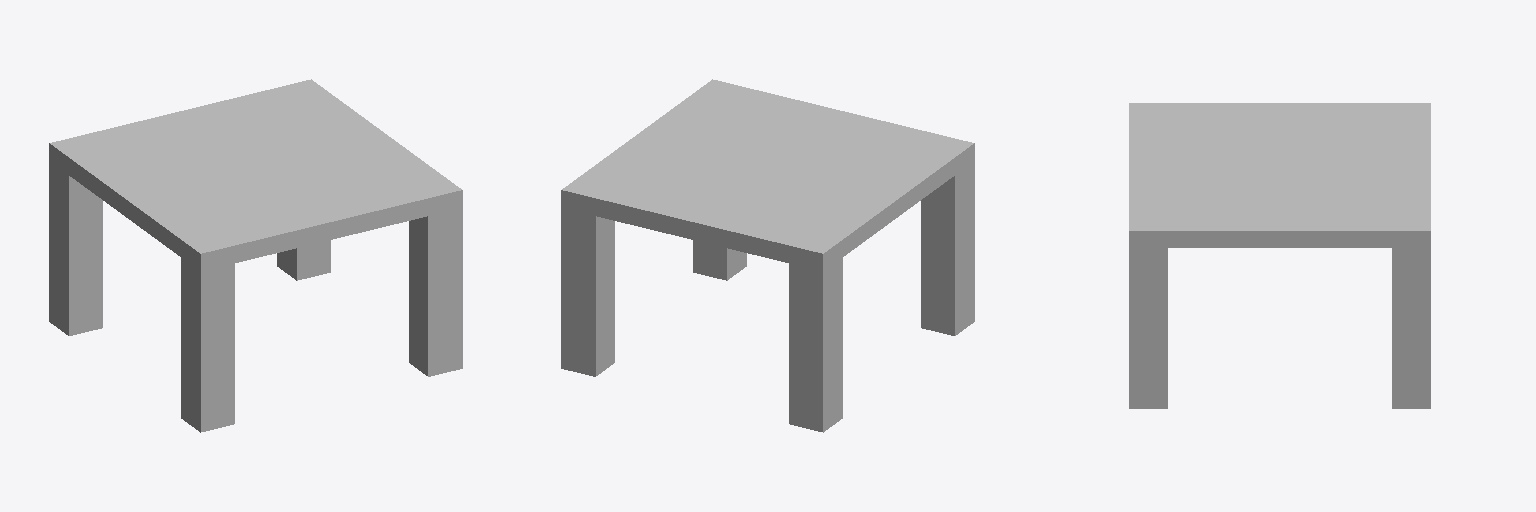
File: Table.obj
3 renders of one model, left to right at view 1: azimuth 30°, elevation 25°; view 2: azimuth 150°, elevation 25°; view 3: azimuth 270°, elevation 25°, orthographic.
Size of the model in its own units: 46 by 30 by 46.